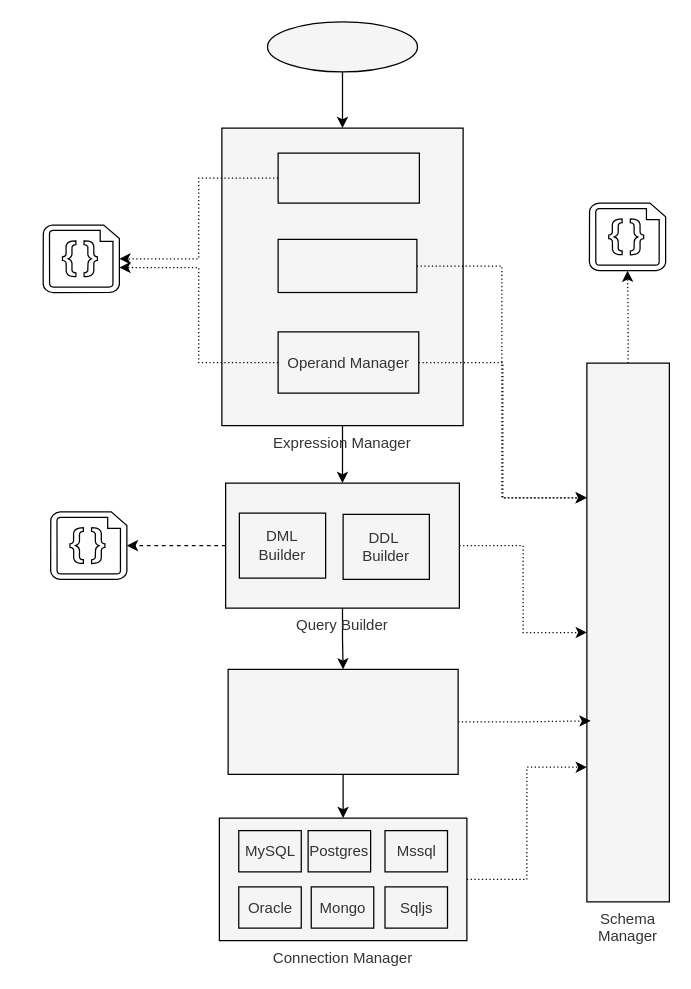
Image size: 691x989. Some labels were removed from this diagram. The centre of each missing label's shape, as x and y in pixels:
Dialect Config: the point at 88,545
Expression: the point at 342,46
Expression Completer: the point at 347,265
expression Config: the point at 80,258
Parser: the point at 348,177
Query Executor: the point at 342,721
Schema: the point at 627,236
